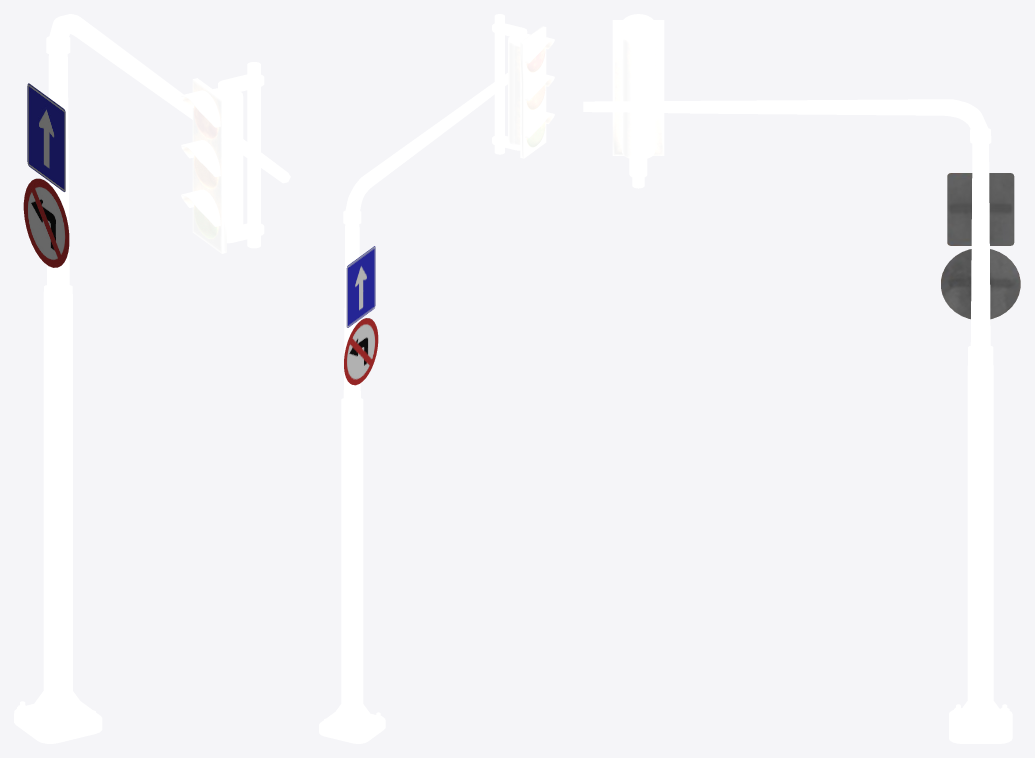
Rendered from trafficlight.glb.
3 renders of one model, left to right at view 1: azimuth 30°, elevation 25°; view 2: azimuth 150°, elevation 25°; view 3: azimuth 270°, elevation 25°, orthographic. The views are drawn at different scales.
Visible parts, largest first — view 1: Traffic_Light_Lamp_0, Traffic_Light_Trafficlights_0, Traffic_Light_RambuFacilitiesAndUtilities_D_0, Traffic_Light_RambuProhibitionC_0; view 2: Traffic_Light_Lamp_0, Traffic_Light_Trafficlights_0, Traffic_Light_RambuFacilitiesAndUtilities_D_0, Traffic_Light_RambuProhibitionC_0; view 3: Traffic_Light_Lamp_0, Traffic_Light_Trafficlights_0, Traffic_Light_Rambu_0.
Boxes of the visible parts, left/top/right/bottom form: Traffic_Light_Lamp_0: left=14, top=14, right=290, bottom=743; Traffic_Light_Trafficlights_0: left=181, top=62, right=264, bottom=253; Traffic_Light_RambuFacilitiesAndUtilities_D_0: left=27, top=83, right=65, bottom=191; Traffic_Light_RambuProhibitionC_0: left=23, top=178, right=69, bottom=267; Traffic_Light_Lamp_0: left=319, top=73, right=507, bottom=743; Traffic_Light_Trafficlights_0: left=492, top=14, right=554, bottom=158; Traffic_Light_RambuFacilitiesAndUtilities_D_0: left=346, top=246, right=375, bottom=327; Traffic_Light_RambuProhibitionC_0: left=344, top=318, right=378, bottom=385; Traffic_Light_Lamp_0: left=583, top=99, right=1012, bottom=743; Traffic_Light_Trafficlights_0: left=612, top=14, right=664, bottom=188; Traffic_Light_Rambu_0: left=941, top=173, right=1020, bottom=319.
Size of the model in its own units: 0.5687 by 4.5 by 2.54.
5 materials, 5 textured.
